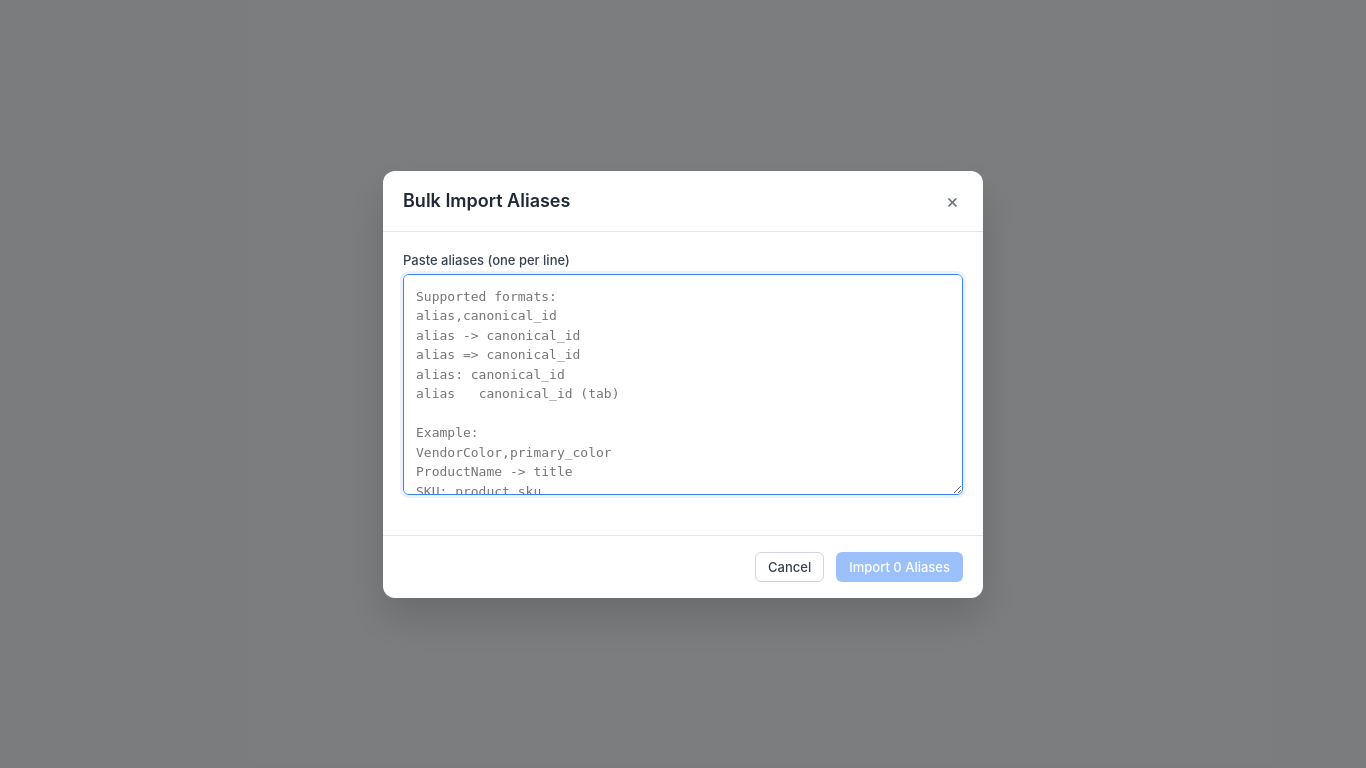
Scenario: BulkAliasImportModal › should detect duplicate aliases
# ExistingAlias is in existingAliases prop
In the text box with placeholder "Supported formats": (683, 384) [403, 274, 963, 494], type "ExistingAlias,primary_color"
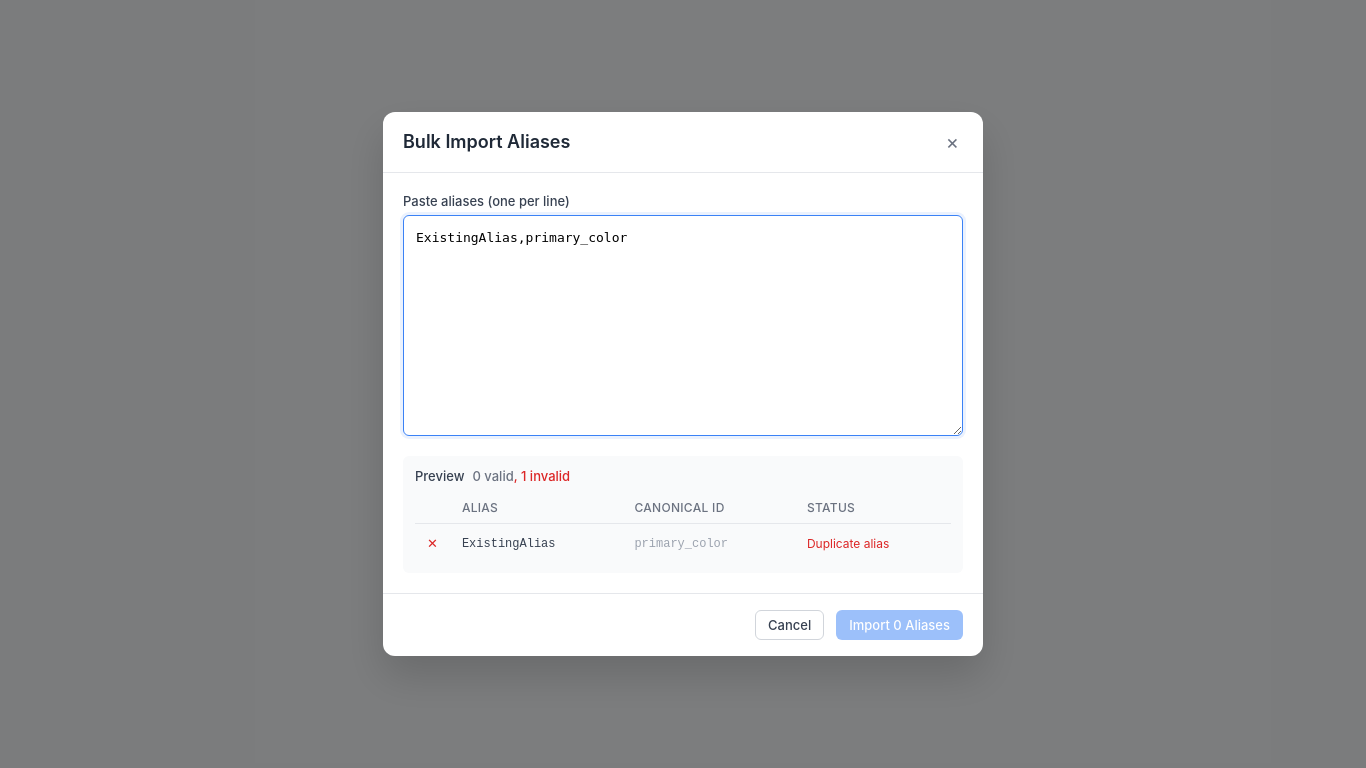
Result: the text "Duplicate alias" is shown at [807, 536, 889, 550]
